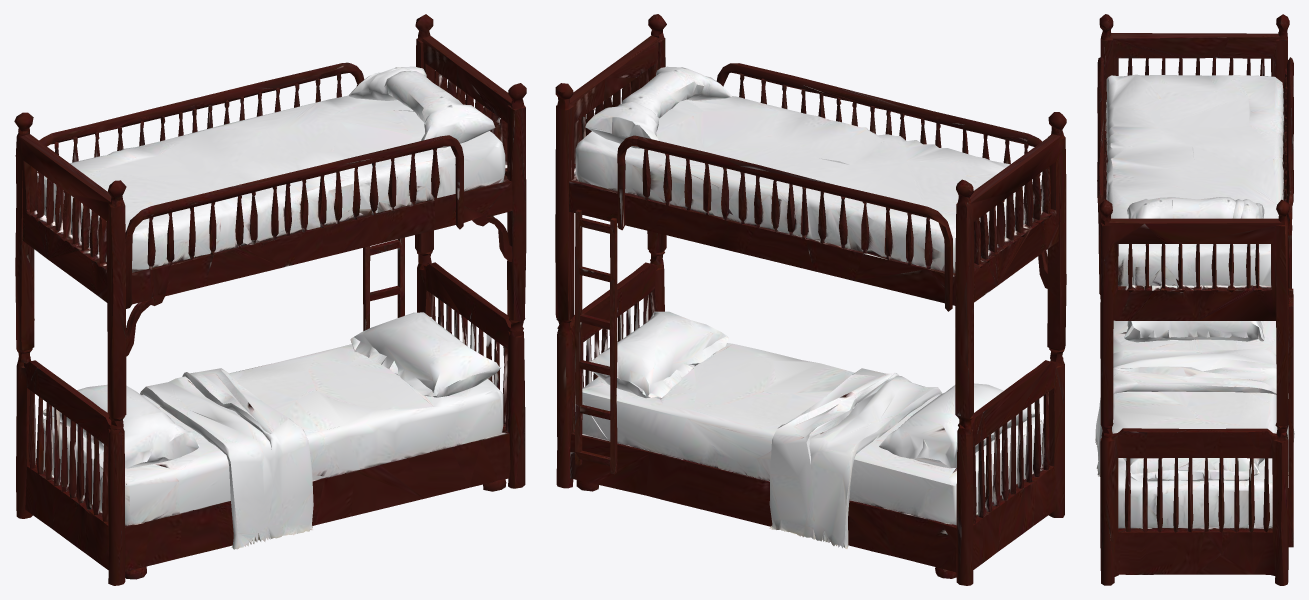
The model's file is mj-berth-mahogany-2nd.glb.
The picture shows the model from 3 angles, left to right: view 1: azimuth 30°, elevation 25°; view 2: azimuth 150°, elevation 25°; view 3: azimuth 270°, elevation 25°; orthographic projection. The views are drawn at different scales.
Parts seen in each view (by area): view 1: mj-berth-mahogany-2nd; view 2: mj-berth-mahogany-2nd; view 3: mj-berth-mahogany-2nd.
Boxes of the visible parts, x1,y1,x2,y2 form: mj-berth-mahogany-2nd: (14, 14, 526, 585); mj-berth-mahogany-2nd: (555, 14, 1066, 585); mj-berth-mahogany-2nd: (1095, 14, 1294, 585).
Bounding box in the file's own units: 1.95 × 1.8 × 0.8493.
1 material, 1 textured.
